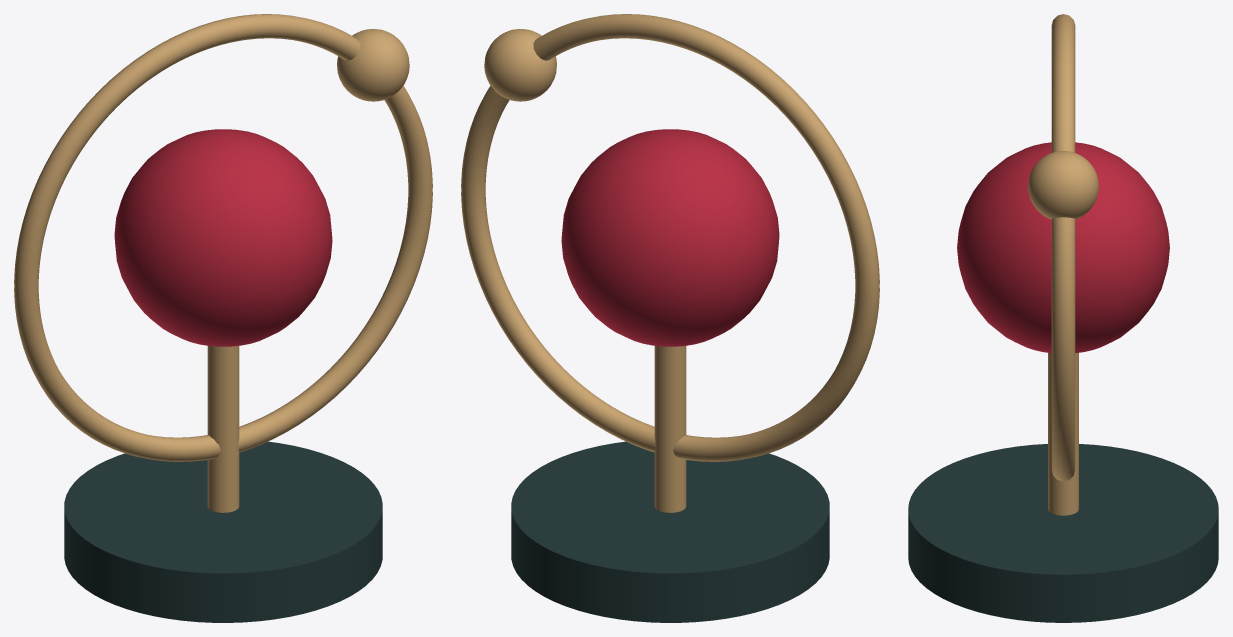
The model's file is orbit.glb.
3 renders of one model, left to right at view 1: azimuth 30°, elevation 25°; view 2: azimuth 150°, elevation 25°; view 3: azimuth 270°, elevation 25°, orthographic. The views are drawn at different scales.
Parts seen in each view (by area): view 1: Sculpture base, Orbit core, Orbit ring, Orbit ring.001, Stand, Satellite; view 2: Sculpture base, Orbit core, Orbit ring, Orbit ring.001, Stand, Satellite; view 3: Sculpture base, Orbit core, Orbit ring, Orbit ring.001, Satellite, Stand.
Boxes of the visible parts, x1,y1,x2,y2 form: Sculpture base: [64, 441, 382, 622]; Orbit core: [114, 129, 332, 346]; Orbit ring: [14, 14, 432, 461]; Orbit ring.001: [14, 14, 432, 461]; Stand: [207, 346, 239, 512]; Satellite: [337, 29, 409, 101]; Sculpture base: [511, 441, 829, 622]; Orbit core: [561, 129, 779, 346]; Orbit ring: [461, 14, 879, 461]; Orbit ring.001: [461, 14, 879, 461]; Stand: [654, 346, 686, 512]; Satellite: [484, 29, 556, 101]; Sculpture base: [908, 444, 1218, 622]; Orbit core: [957, 142, 1169, 353]; Orbit ring: [1051, 14, 1075, 481]; Orbit ring.001: [1051, 14, 1075, 481]; Satellite: [1028, 151, 1098, 219]; Stand: [1048, 352, 1078, 515].
Size of the model in its own units: 1.05 by 1.3 by 0.7.
